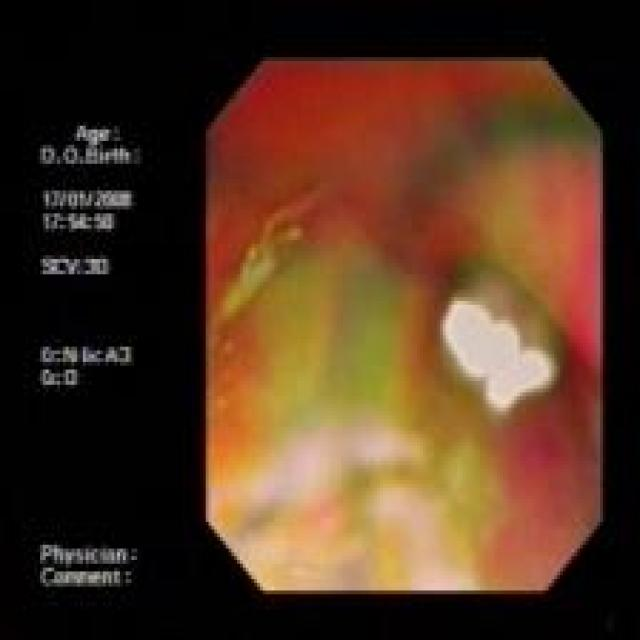color misalignment: (204, 59, 601, 590), (37, 123, 148, 588)
